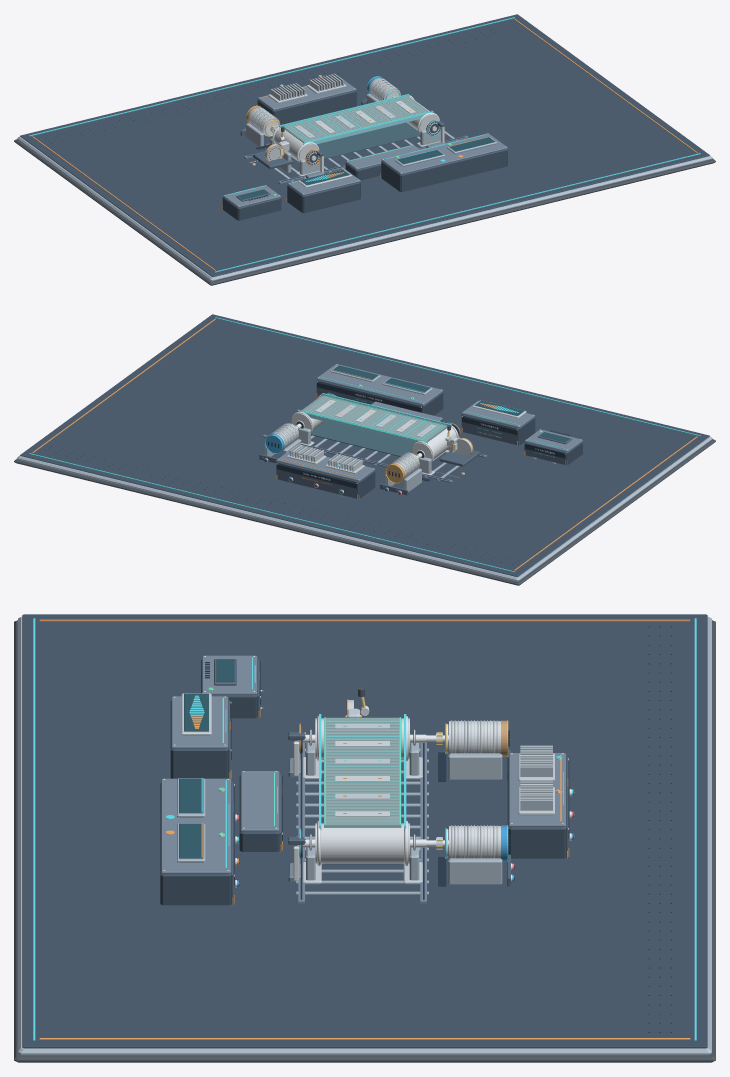
File: Level45_Complete_ArtKit_Showcase.fbx
3 renders of one model, top to bottom at view 1: azimuth 30°, elevation 25°; view 2: azimuth 150°, elevation 25°; view 3: azimuth 270°, elevation 25°, orthographic. The views are drawn at different scales.
Parts seen in each view (by area): view 1: Model::ART_ONLY_L46_ShowcaseBench__L46_BENCH_RibbedCarbonTab, Model::ART_ONLY_L46_ShowcaseBench__L46_BENCH_ForgedAlloyWork, Model::ART_ONLY_L46_ShowcaseBench__L46_BENCH_NeopreneBorder, Model::08_L46_SyncController__L46_CTRL_Chassis, Model::05_L46_TransportWeb__L46_WEB_UpperFrostedWeave, Model::05_L46_TransportWeb__L46_WEB_LowerReturnWeb, Model::07_L46_DualMotorDriver__L46_DRIVER_Chassis, Model::08_L46_SyncController__L46_CTRL_Top_Lid, Model::10_L46_TensionMonitor__L46_TENSION_Chassis, Model::ART_ONLY_L46_ShowcaseBench__L46_BENCH_FrontCyanRail_1, Model::ART_ONLY_L46_ShowcaseBench__L46_BENCH_FrontCyanRail_-, Model::00_L46_5V_Supply__L46_SUPPLY_Chassis (+6 smaller); view 2: Model::ART_ONLY_L46_ShowcaseBench__L46_BENCH_RibbedCarbonTab, Model::ART_ONLY_L46_ShowcaseBench__L46_BENCH_ForgedAlloyWork, Model::ART_ONLY_L46_ShowcaseBench__L46_BENCH_NeopreneBorder, Model::05_L46_TransportWeb__L46_WEB_UpperFrostedWeave, Model::05_L46_TransportWeb__L46_WEB_LowerReturnWeb, Model::08_L46_SyncController__L46_CTRL_Top_Lid, Model::07_L46_DualMotorDriver__L46_DRIVER_Front_Console_Plat, Model::ART_ONLY_L46_ShowcaseBench__L46_BENCH_FrontCyanRail_-, Model::ART_ONLY_L46_ShowcaseBench__L46_BENCH_FrontCyanRail_1, Model::10_L46_TensionMonitor__L46_TENSION_Front_Console_Plat, Model::07_L46_DualMotorDriver__L46_DRIVER_Top_Lid, Model::10_L46_TensionMonitor__L46_TENSION_Top_Lid (+8 smaller); view 3: Model::ART_ONLY_L46_ShowcaseBench__L46_BENCH_RibbedCarbonTab, Model::ART_ONLY_L46_ShowcaseBench__L46_BENCH_ForgedAlloyWork, Model::ART_ONLY_L46_ShowcaseBench__L46_BENCH_NeopreneBorder, Model::05_L46_TransportWeb__L46_WEB_UpperFrostedWeave, Model::08_L46_SyncController__L46_CTRL_Top_Lid, Model::03_L46_MASTERRoller__L46_MASTER_ROLLER_CastAlloyRolle, Model::ART_ONLY_L46_ShowcaseBench__L46_BENCH_SideOrangeRail_ (×2), Model::08_L46_SyncController__L46_CTRL_Chassis, Model::06_L46_EncoderPair__L46_ENCODERS_IO_Top_Lid, Model::07_L46_DualMotorDriver__L46_DRIVER_Chassis, Model::07_L46_DualMotorDriver__L46_DRIVER_Top_Lid, Model::10_L46_TensionMonitor__L46_TENSION_Chassis (+14 smaller).
Part boxes in pixels (x1,y1,x2,y2): Model::ART_ONLY_L46_ShowcaseBench__L46_BENCH_RibbedCarbonTab: (20, 14, 709, 276); Model::ART_ONLY_L46_ShowcaseBench__L46_BENCH_ForgedAlloyWork: (17, 136, 712, 281); Model::ART_ONLY_L46_ShowcaseBench__L46_BENCH_NeopreneBorder: (14, 139, 715, 285); Model::08_L46_SyncController__L46_CTRL_Chassis: (381, 148, 507, 191); Model::05_L46_TransportWeb__L46_WEB_UpperFrostedWeave: (284, 97, 427, 142); Model::05_L46_TransportWeb__L46_WEB_LowerReturnWeb: (317, 122, 420, 159); Model::07_L46_DualMotorDriver__L46_DRIVER_Chassis: (257, 90, 356, 124); Model::08_L46_SyncController__L46_CTRL_Top_Lid: (381, 133, 507, 174); Model::10_L46_TensionMonitor__L46_TENSION_Chassis: (287, 182, 360, 213); Model::ART_ONLY_L46_ShowcaseBench__L46_BENCH_FrontCyanRail_1: (215, 153, 700, 272); Model::ART_ONLY_L46_ShowcaseBench__L46_BENCH_FrontCyanRail_-: (29, 17, 514, 136); Model::00_L46_5V_Supply__L46_SUPPLY_Chassis: (223, 197, 281, 220); Model::ART_ONLY_L46_ShowcaseBench__L46_BENCH_RibbedCarbonTab: (20, 314, 709, 576); Model::ART_ONLY_L46_ShowcaseBench__L46_BENCH_ForgedAlloyWork: (17, 436, 712, 581); Model::ART_ONLY_L46_ShowcaseBench__L46_BENCH_NeopreneBorder: (14, 439, 715, 585); Model::05_L46_TransportWeb__L46_WEB_UpperFrostedWeave: (303, 396, 446, 441); Model::05_L46_TransportWeb__L46_WEB_LowerReturnWeb: (311, 421, 414, 456); Model::08_L46_SyncController__L46_CTRL_Top_Lid: (317, 364, 443, 404); Model::07_L46_DualMotorDriver__L46_DRIVER_Front_Console_Plat: (276, 462, 358, 498); Model::ART_ONLY_L46_ShowcaseBench__L46_BENCH_FrontCyanRail_-: (29, 453, 514, 572); Model::ART_ONLY_L46_ShowcaseBench__L46_BENCH_FrontCyanRail_1: (215, 317, 700, 436); Model::10_L46_TensionMonitor__L46_TENSION_Front_Console_Plat: (461, 415, 518, 445); Model::07_L46_DualMotorDriver__L46_DRIVER_Top_Lid: (276, 449, 375, 480); Model::10_L46_TensionMonitor__L46_TENSION_Top_Lid: (462, 401, 535, 427); Model::ART_ONLY_L46_ShowcaseBench__L46_BENCH_RibbedCarbonTab: (22, 614, 707, 1048); Model::ART_ONLY_L46_ShowcaseBench__L46_BENCH_ForgedAlloyWork: (18, 616, 711, 1055); Model::ART_ONLY_L46_ShowcaseBench__L46_BENCH_NeopreneBorder: (14, 620, 715, 1062); Model::05_L46_TransportWeb__L46_WEB_UpperFrostedWeave: (325, 718, 399, 825); Model::08_L46_SyncController__L46_CTRL_Top_Lid: (161, 778, 231, 873); Model::03_L46_MASTERRoller__L46_MASTER_ROLLER_CastAlloyRolle: (315, 823, 409, 863); Model::ART_ONLY_L46_ShowcaseBench__L46_BENCH_SideOrangeRail_ (×2): (39, 619, 690, 1039); Model::08_L46_SyncController__L46_CTRL_Chassis: (160, 783, 231, 905); Model::06_L46_EncoderPair__L46_ENCODERS_IO_Top_Lid: (240, 771, 279, 831); Model::07_L46_DualMotorDriver__L46_DRIVER_Chassis: (507, 757, 566, 858); Model::07_L46_DualMotorDriver__L46_DRIVER_Top_Lid: (508, 753, 565, 826); Model::10_L46_TensionMonitor__L46_TENSION_Chassis: (170, 701, 228, 778).
Bounding box in the file's own units: 32.3 × 2.84 × 21.8.
